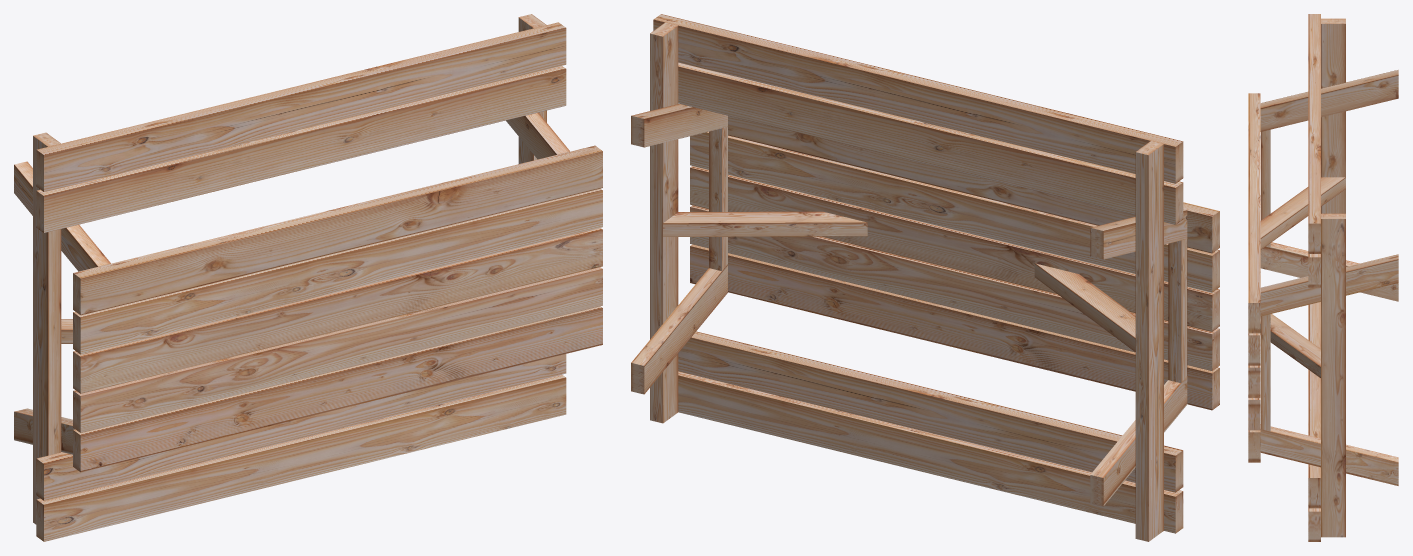
File: parkTable02.obj
3 views of the same model, side by side, from view 1: azimuth 30°, elevation 25°; view 2: azimuth 150°, elevation 25°; view 3: azimuth 270°, elevation 25° (orthographic). The views are drawn at different scales.
Parts seen in each view (by area): view 1: Cube.019_Cube.024, Cube.008_Cube.031, Cube.006_Cube.026, Cube.005_Cube.022, Cube.012_Cube.035, Cube.011_Cube.034, Cube.009_Cube.032, Cube.013_Cube.033, Cube.014_Cube.023, Cube.000_Cube.039, Cube.001_Cube.037, Cube.022_Cube.027 (+2 smaller); view 2: Cube.019_Cube.024, Cube.014_Cube.023, Cube.005_Cube.022, Cube.006_Cube.026, Cube.012_Cube.035, Cube.009_Cube.032, Cube.011_Cube.034, Cube.013_Cube.033, Cube.000_Cube.039, Cube.008_Cube.031, Cube.024_Cube.029, Cube.010_Cube.005 (+7 smaller); view 3: Cube.024_Cube.029, Cube.001_Cube.037, Cube.000_Cube.039, Cube.023_Cube.028, Cube.022_Cube.027, Cube.008_Cube.031, Cube.019_Cube.024, Cube.007_Cube.040, Cube.014_Cube.023, Cube.002_Cube.036, Cube.010_Cube.005, Cube.004_Cube.030 (+7 smaller).
Part boxes in pixels (x1,y1,x2,y2): Cube.019_Cube.024: (36, 22, 566, 191); Cube.008_Cube.031: (73, 145, 602, 315); Cube.006_Cube.026: (36, 374, 566, 541); Cube.005_Cube.022: (36, 66, 566, 232); Cube.012_Cube.035: (73, 306, 602, 472); Cube.011_Cube.034: (73, 267, 602, 432); Cube.009_Cube.032: (73, 188, 602, 354); Cube.013_Cube.033: (73, 228, 602, 393); Cube.014_Cube.023: (36, 354, 566, 500); Cube.000_Cube.039: (33, 132, 61, 524); Cube.001_Cube.037: (14, 161, 110, 271); Cube.022_Cube.027: (506, 112, 569, 159); Cube.019_Cube.024: (653, 14, 1183, 183); Cube.014_Cube.023: (678, 331, 1183, 492); Cube.005_Cube.022: (678, 62, 1183, 224); Cube.006_Cube.026: (678, 371, 1183, 533); Cube.012_Cube.035: (690, 244, 1219, 410); Cube.009_Cube.032: (690, 131, 1219, 292); Cube.011_Cube.034: (690, 205, 1219, 370); Cube.013_Cube.033: (690, 166, 1219, 331); Cube.000_Cube.039: (1135, 141, 1163, 541); Cube.008_Cube.031: (728, 115, 1219, 253); Cube.024_Cube.029: (650, 22, 678, 423); Cube.010_Cube.005: (663, 211, 867, 236); Cube.024_Cube.029: (1321, 213, 1345, 537); Cube.001_Cube.037: (1260, 70, 1398, 131); Cube.000_Cube.039: (1321, 18, 1345, 213); Cube.023_Cube.028: (1260, 424, 1398, 485); Cube.022_Cube.027: (1260, 254, 1398, 316); Cube.008_Cube.031: (1248, 93, 1260, 333); Cube.019_Cube.024: (1308, 14, 1320, 253); Cube.007_Cube.040: (1260, 177, 1345, 249); Cube.014_Cube.023: (1308, 302, 1320, 508); Cube.002_Cube.036: (1260, 242, 1398, 301); Cube.010_Cube.005: (1260, 314, 1320, 377); Cube.004_Cube.030: (1261, 314, 1270, 431).
Size of the model in its own units: 989 by 700 by 300.
